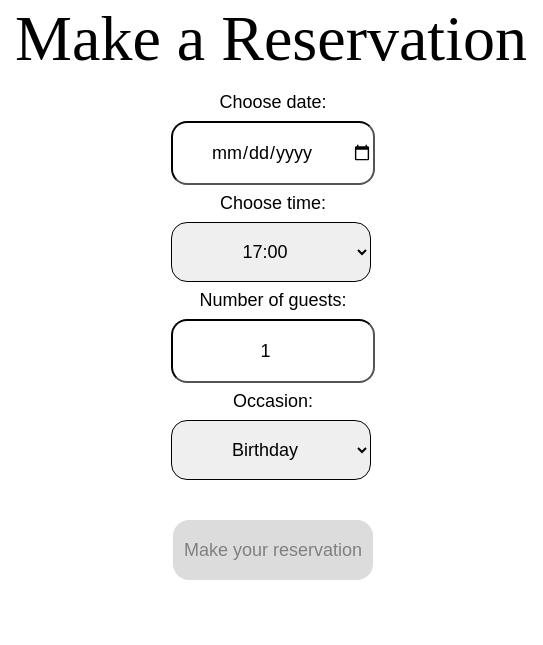
Invalid date creates error
The width and height of the screenshot is (543, 645).
Type "2020-05-24" into the date field with id "res-date" at coordinates (273, 153), box left=171, top=121, right=375, bottom=185
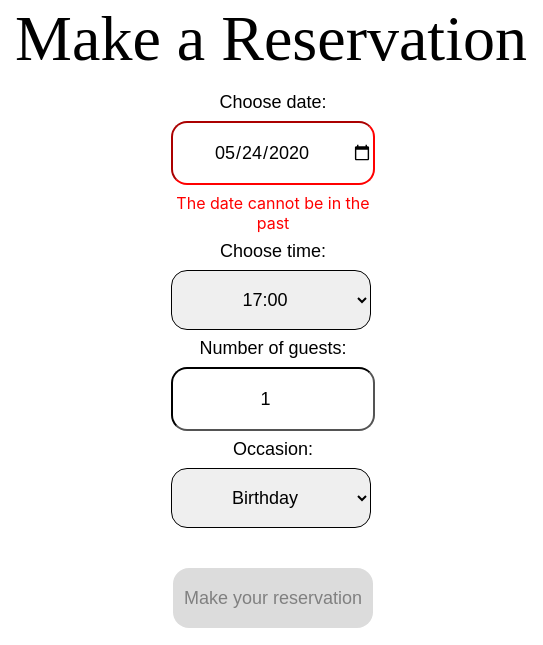
Expected: the text "The date cannot be in the past" is shown, left=171, top=193, right=375, bottom=233
